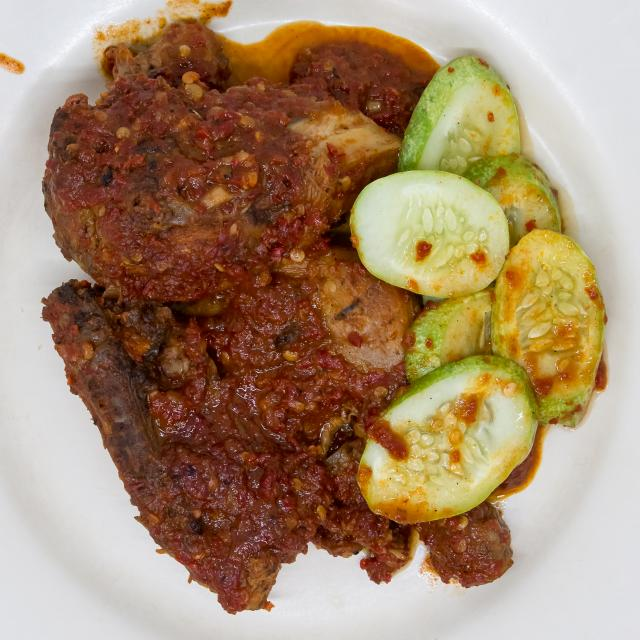Ayam-Bumbu-Rujak: (33, 22, 549, 625)
